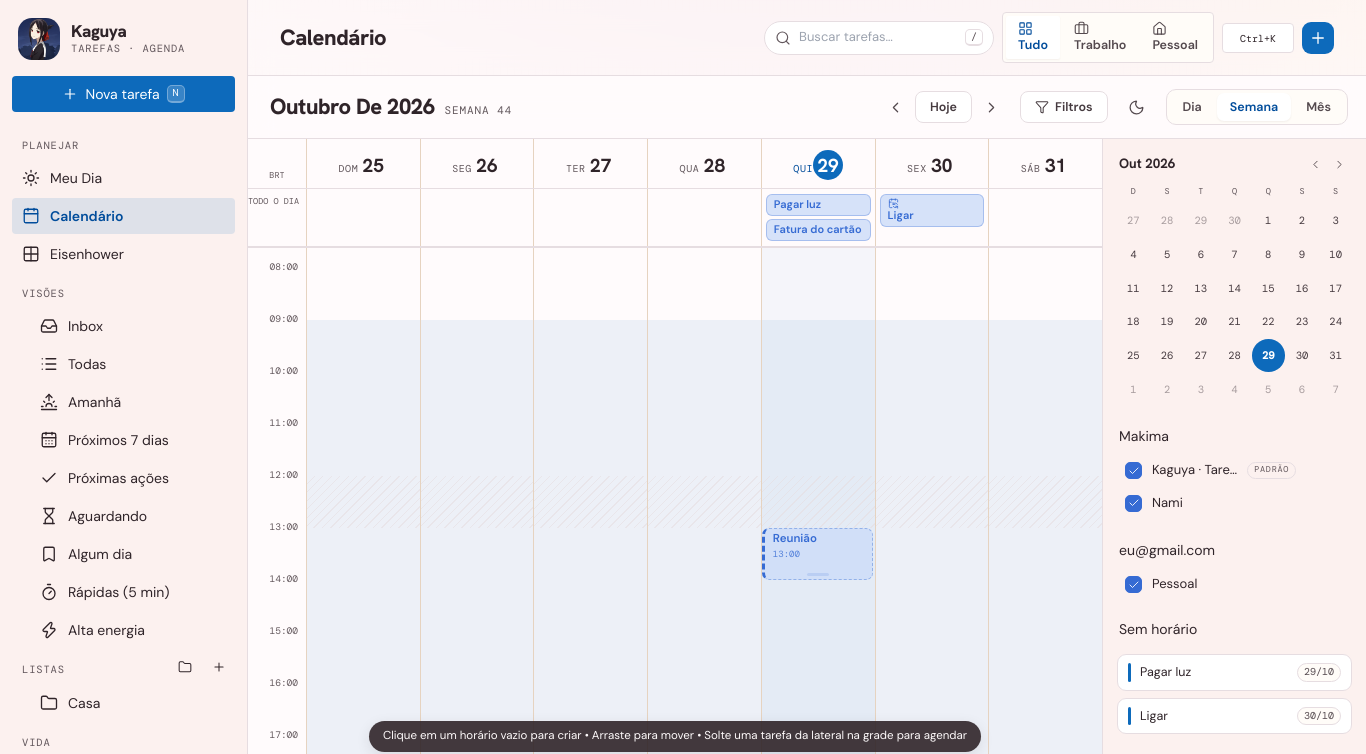
Test case: Calendário — eventos › item de outro agente é só leitura, com atalho para abrir na origem
(page scrolled)
Click the button "Fatura do cartão": (818, 230) [766,219,870,241]
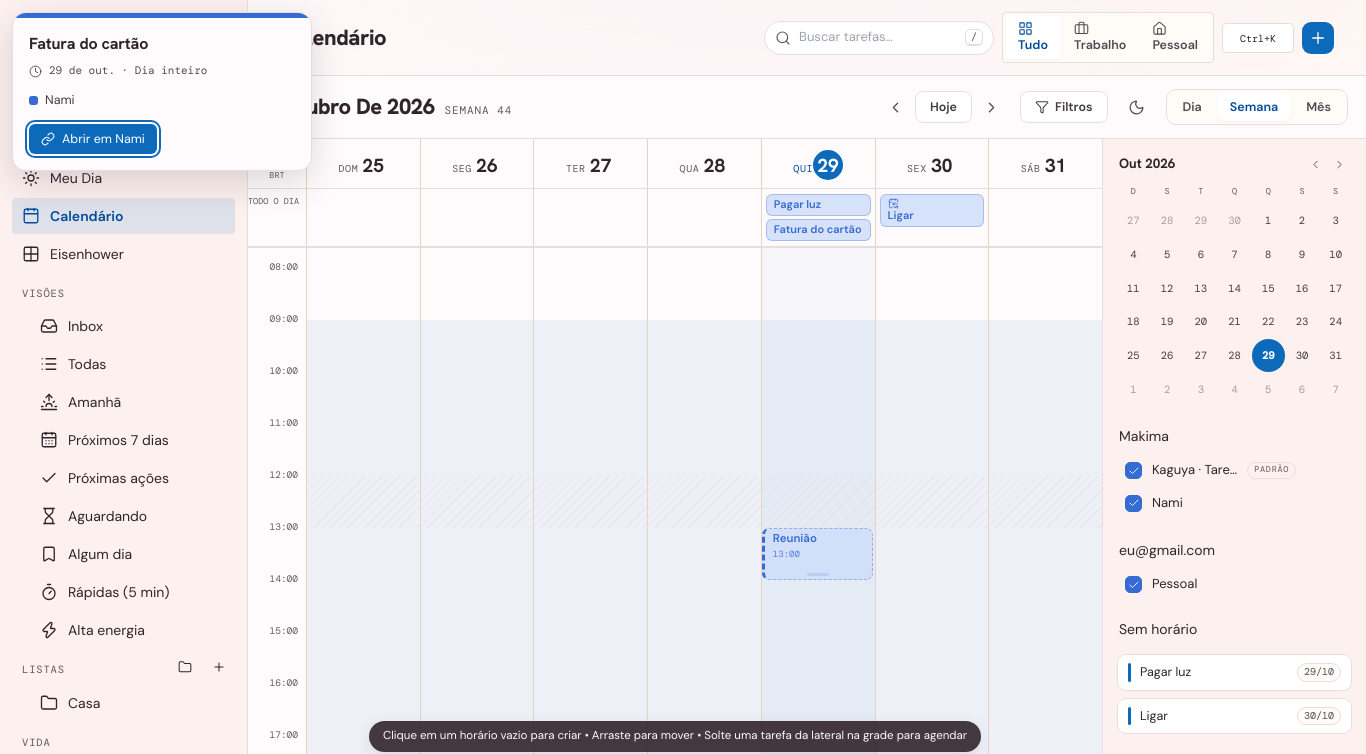
Result: the button "Abrir em Nami" is shown at [29,124,157,154]
